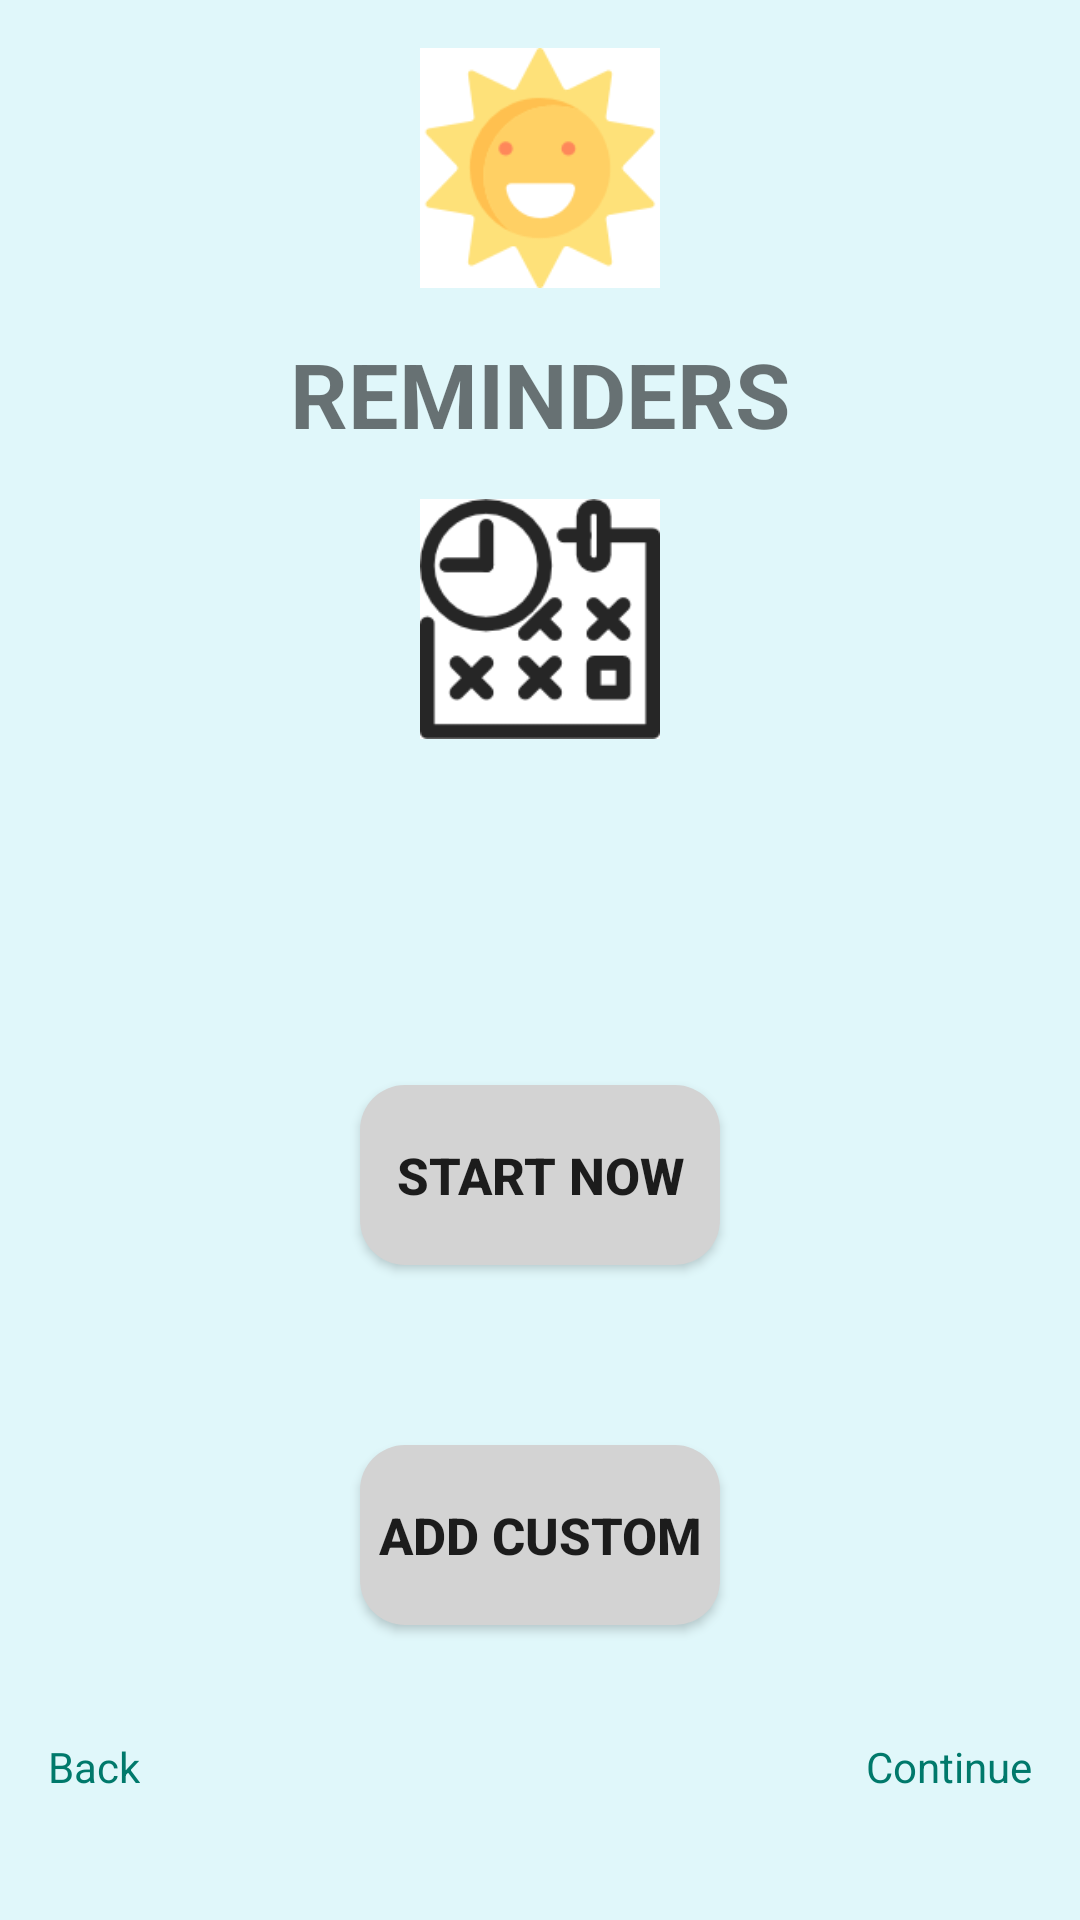

Screen size 1080 × 1920. Icon name, then its box in pixels as [x1, y1, x2, y2]:
calendar: [420, 499, 660, 739]
sun: [420, 48, 660, 288]
